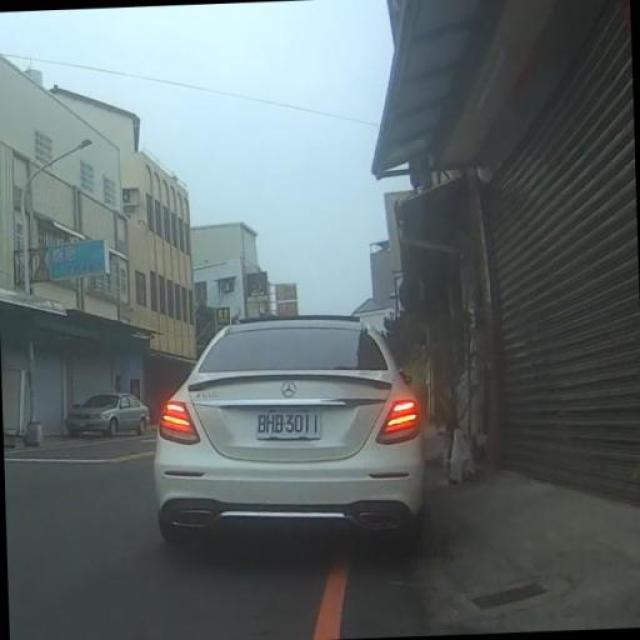illegalparking: (119, 252, 465, 614)
